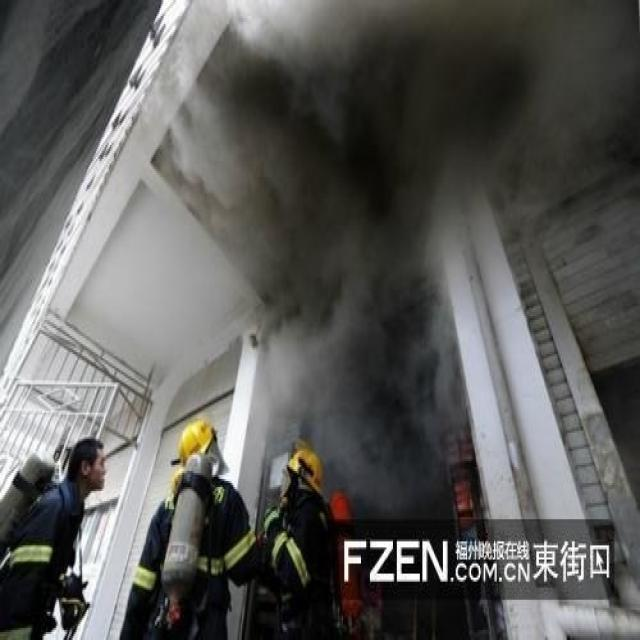Smoke: (161, 2, 640, 519)
